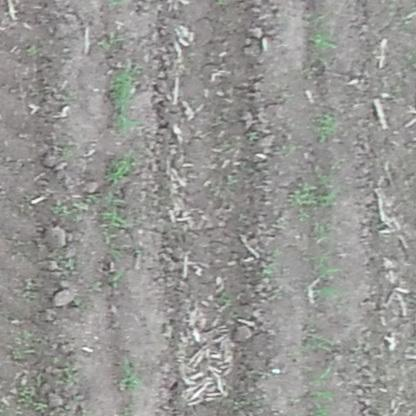corn: (104, 60, 144, 129), (98, 190, 134, 234), (100, 148, 136, 180), (314, 103, 340, 143), (310, 25, 341, 54), (118, 355, 141, 393)
